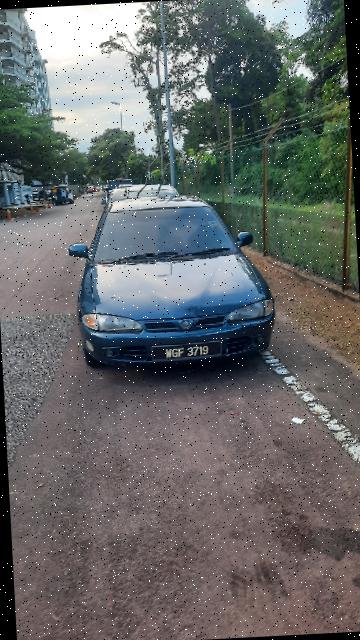License_Plate: (148, 340, 229, 364)
car: (59, 192, 282, 377)
